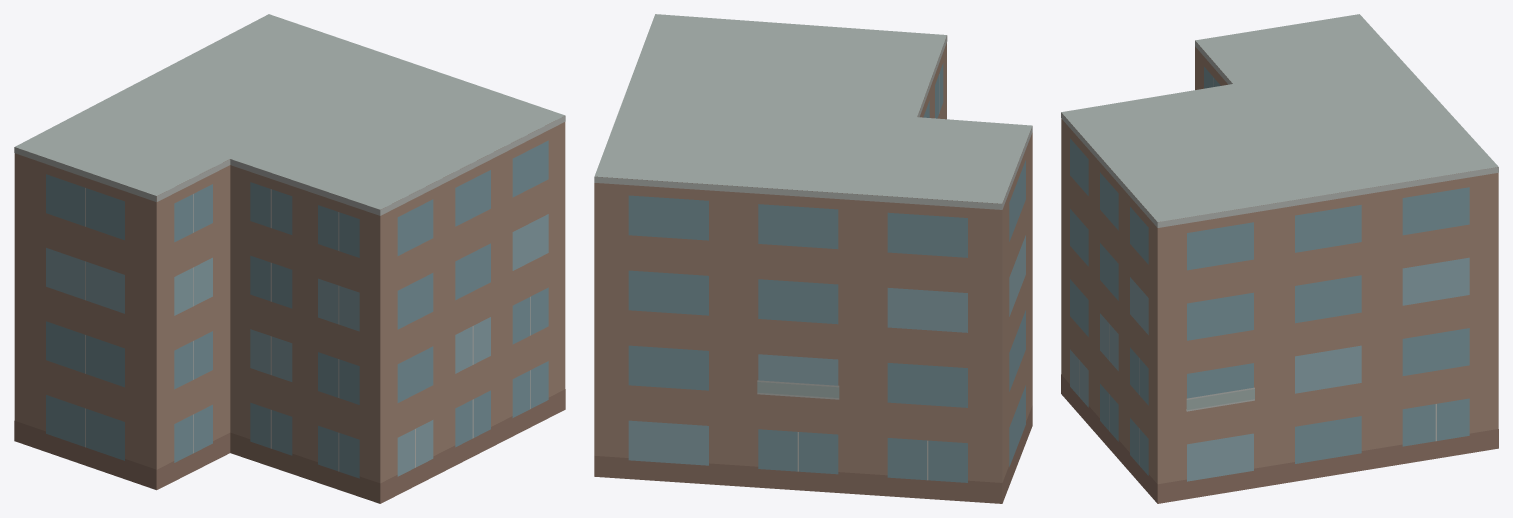
The model's file is survey-upis-32999773.glb.
The picture shows the model from 3 angles, left to right: view 1: azimuth 30°, elevation 25°; view 2: azimuth 150°, elevation 25°; view 3: azimuth 270°, elevation 25°; orthographic projection. The views are drawn at different scales.
Parts seen in each view (by area): view 1: survey-upis-32999773.tmp; view 2: survey-upis-32999773.tmp; view 3: survey-upis-32999773.tmp.
Part boxes in pixels (<box>): survey-upis-32999773.tmp: <box>14,14,565,503</box>; survey-upis-32999773.tmp: <box>594,14,1032,503</box>; survey-upis-32999773.tmp: <box>1061,14,1498,503</box>.
Size of the model in its own units: 18.56 by 11.7 by 16.49.
